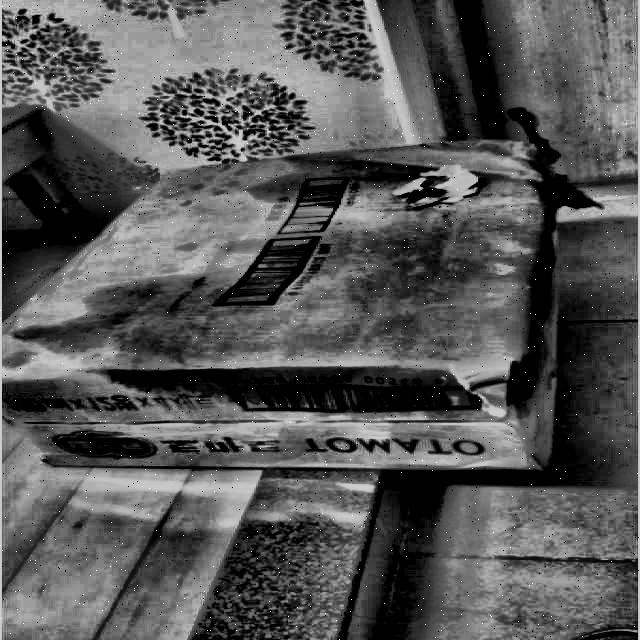box: (1, 124, 572, 475)
wet: (15, 140, 556, 466)
